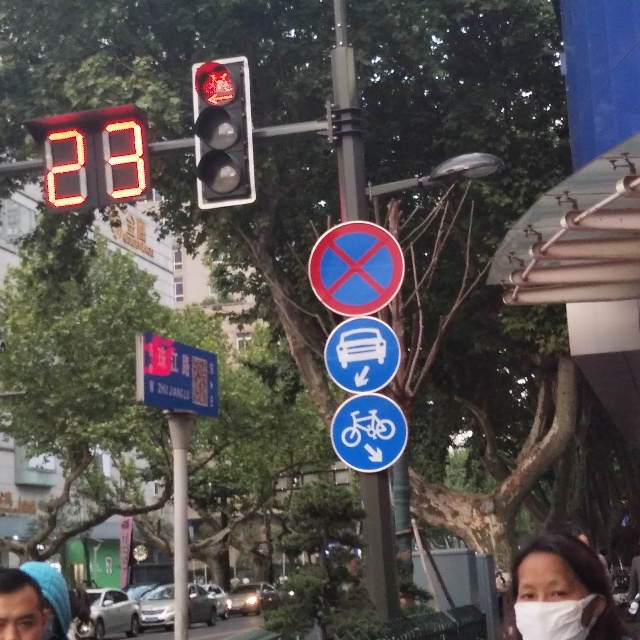stop: (313, 227, 394, 304)
